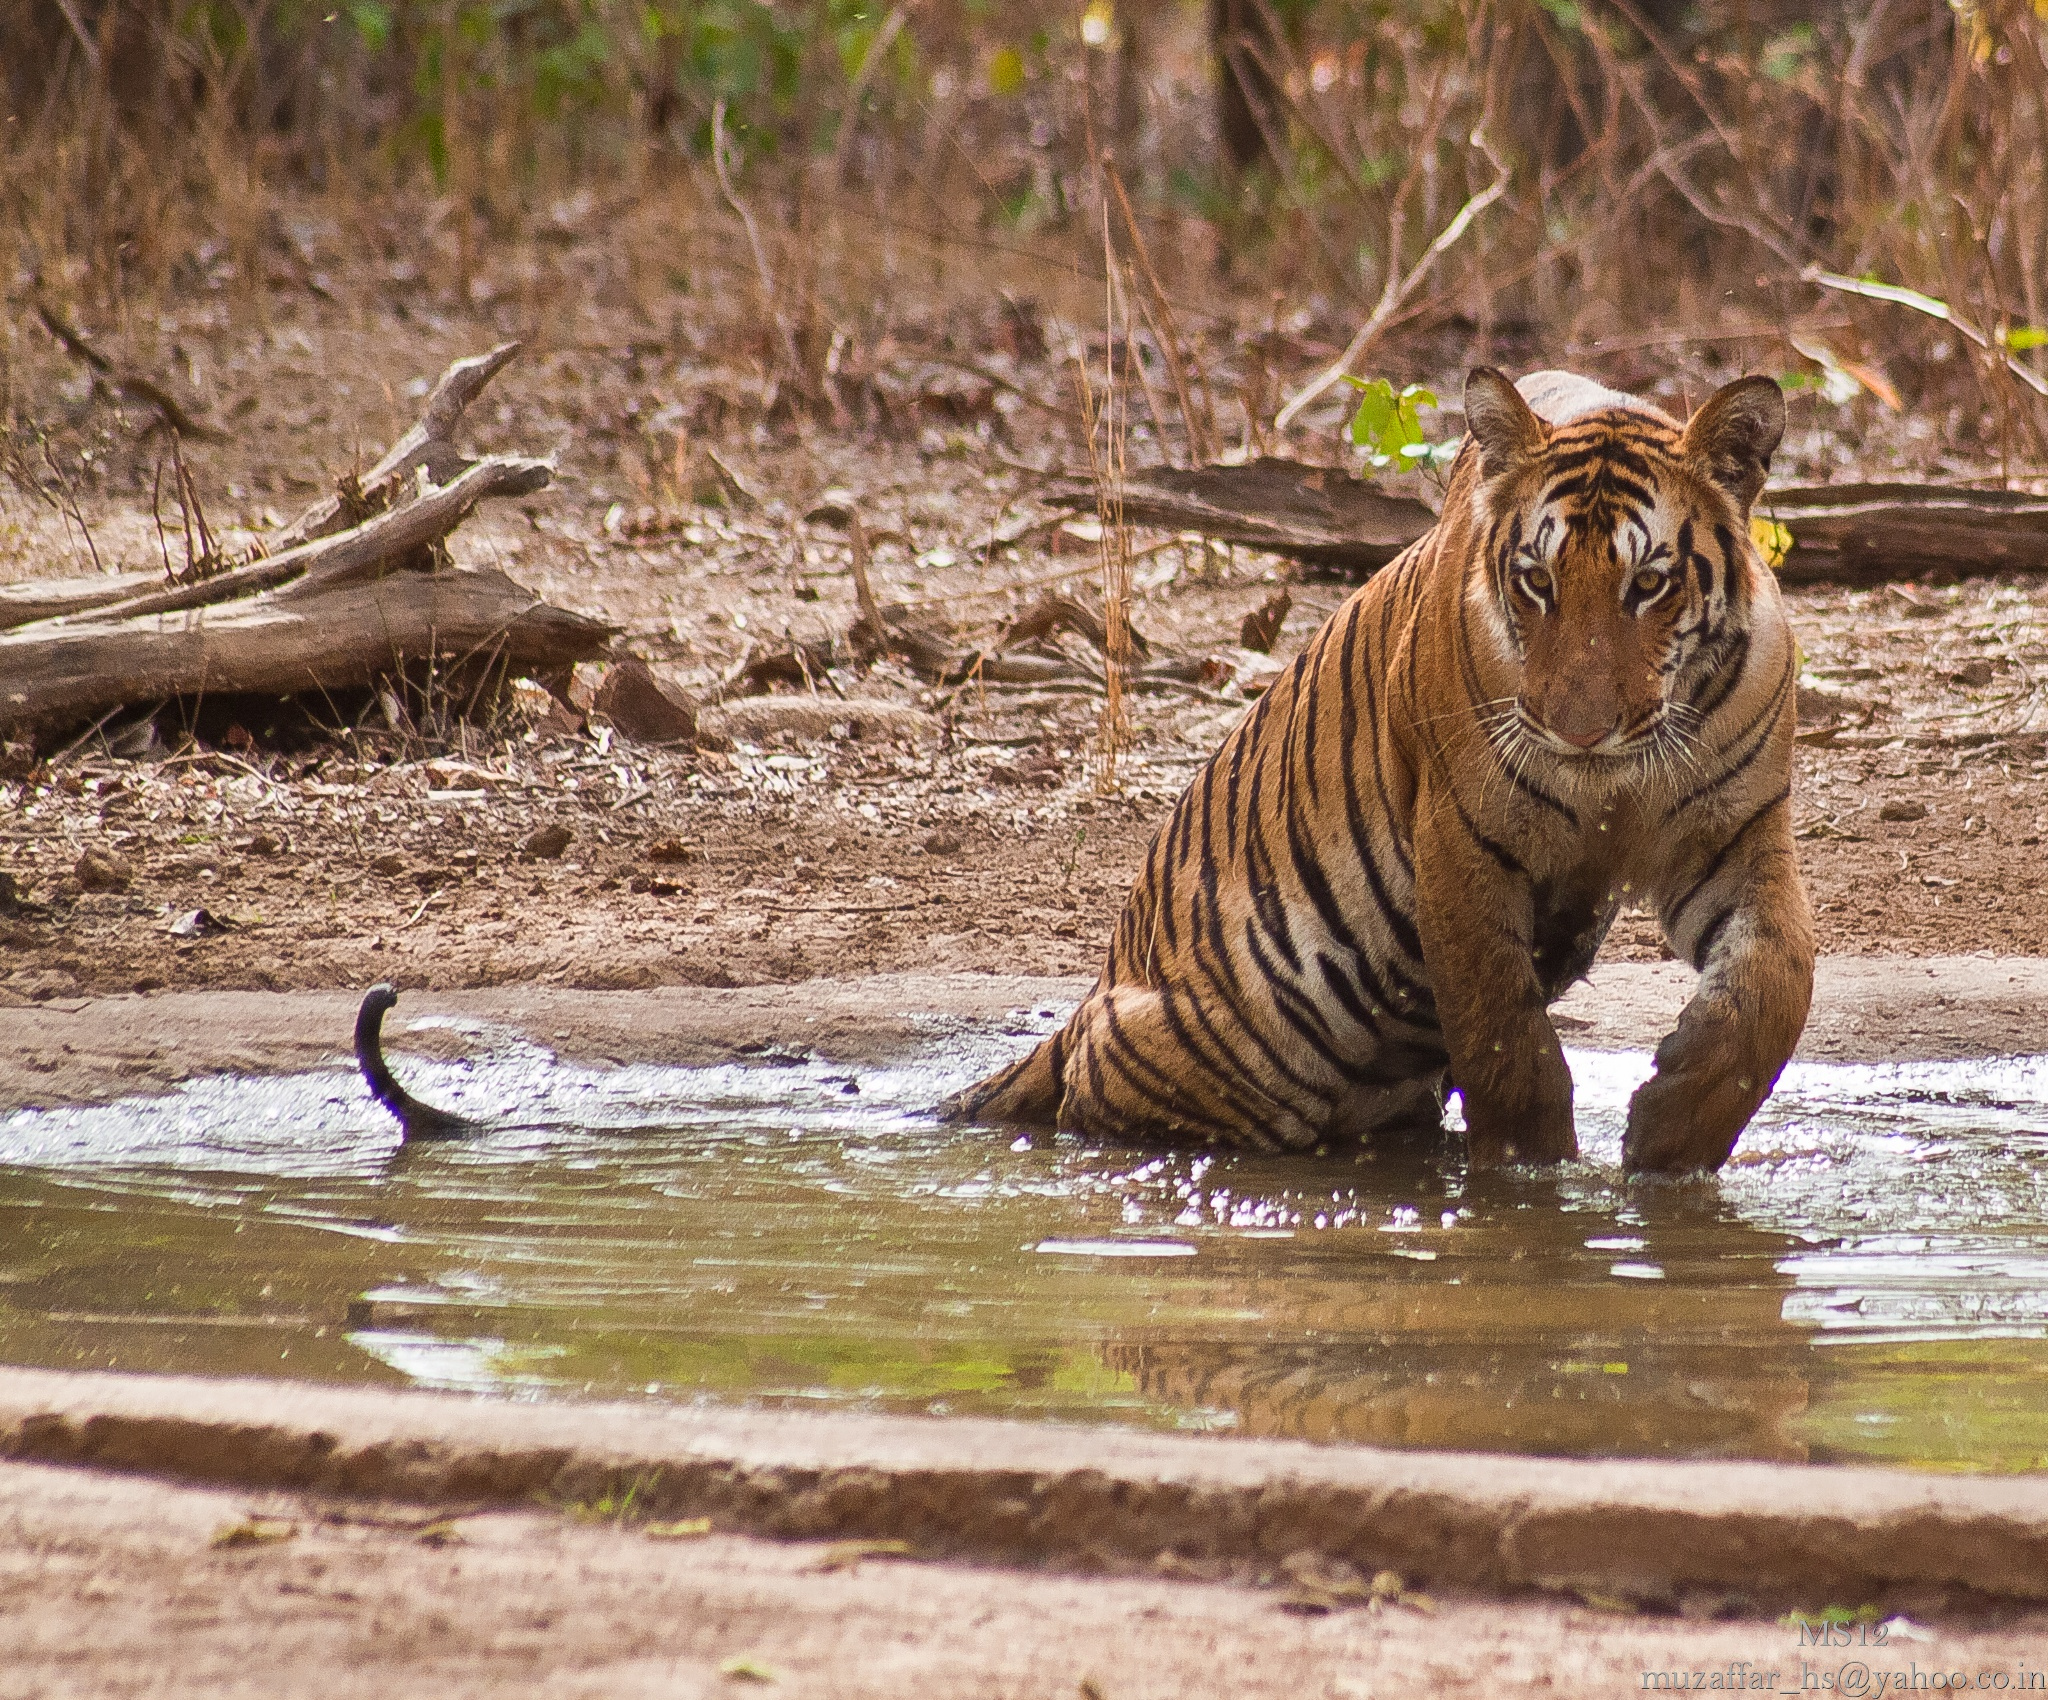tiger: (976, 359, 1861, 1196)
